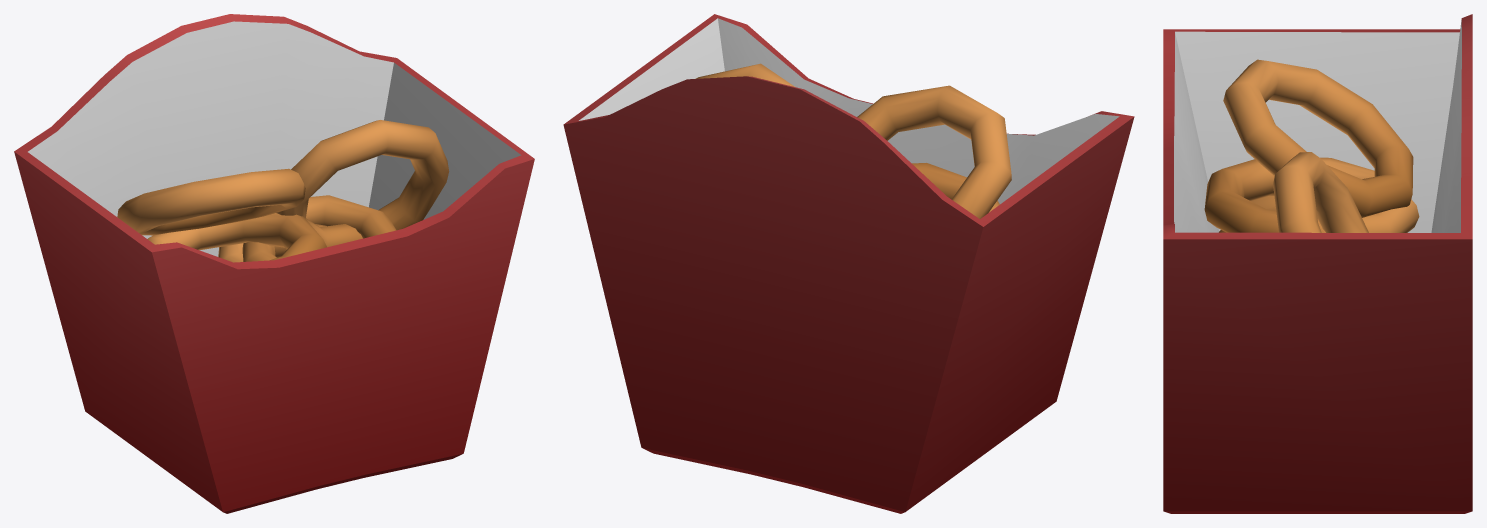
File: Fried Onion_1.fbx
3 renders of one model, left to right at view 1: azimuth 30°, elevation 25°; view 2: azimuth 150°, elevation 25°; view 3: azimuth 270°, elevation 25°, orthographic. The views are drawn at different scales.
Visible parts, largest first — view 1: Fried Onion_1; view 2: Fried Onion_1; view 3: Fried Onion_1.
Part boxes in pixels (x1,y1,x2,y2): Fried Onion_1: [14, 14, 534, 513]; Fried Onion_1: [563, 14, 1134, 513]; Fried Onion_1: [1163, 14, 1472, 513].
Size of the model in its own units: 0.1047 by 0.0962 by 0.0653.
1 material, 1 textured.
